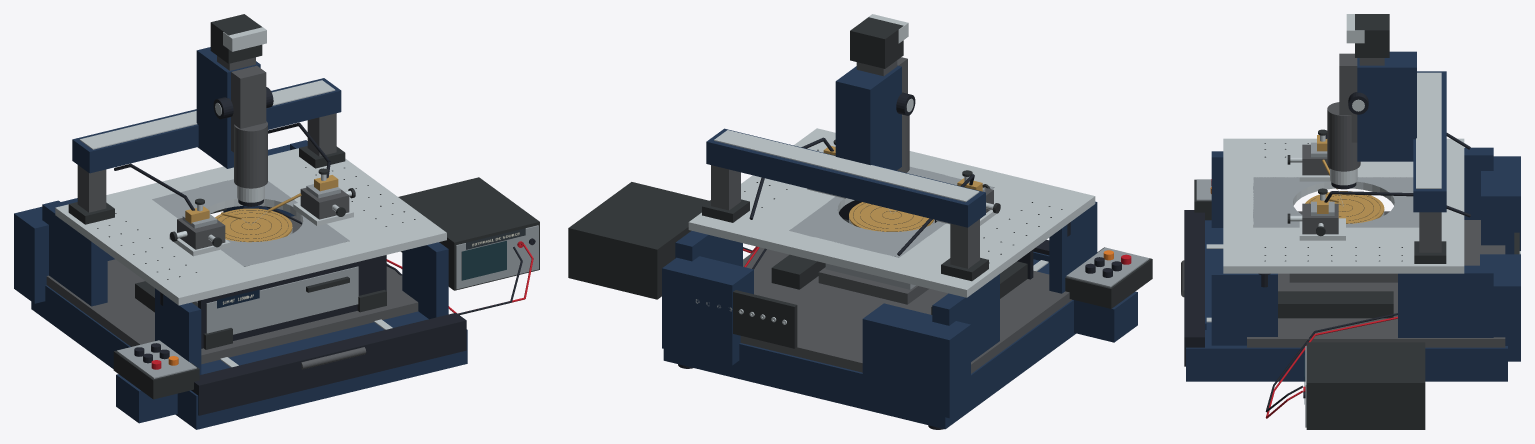
The model's file is summit-11000b.glb.
The picture shows the model from 3 angles, left to right: view 1: azimuth 30°, elevation 25°; view 2: azimuth 150°, elevation 25°; view 3: azimuth 270°, elevation 25°; orthographic projection. The views are drawn at different scales.
Visible parts, largest first — view 1: platform, platen, optics, bridge, smu, door, console, drawer, positioner_LO, positioner_HI, rotor, smu_lead; view 2: platform, platen, bridge, smu, optics, console, rear, drawer, stage_xy, rotor, positioner_HI; view 3: platform, platen, optics, smu, bridge, drawer, positioner_LO, rotor, positioner_HI, smu_lead, stage_xy, console.
Part boxes in pixels (x1,y1,x2,y2): platform: (14, 122, 467, 429); platen: (55, 148, 446, 305); optics: (196, 14, 273, 206); bridge: (68, 78, 345, 224); smu: (398, 177, 539, 290); door: (198, 255, 386, 348); console: (113, 340, 199, 399); drawer: (135, 281, 392, 369); positioner_LO: (293, 168, 355, 225); positioner_HI: (169, 198, 230, 256); rotor: (215, 208, 292, 242); smu_lead: (266, 206, 533, 315); platform: (662, 137, 1137, 429); platen: (688, 128, 1095, 297); bridge: (702, 128, 988, 281); smu: (568, 182, 709, 299); optics: (835, 14, 915, 172); console: (1065, 247, 1152, 308); rear: (695, 290, 797, 348); drawer: (771, 219, 1049, 314); stage_xy: (818, 256, 928, 304); rotor: (849, 202, 934, 231); positioner_HI: (936, 170, 1000, 225); platform: (1184, 133, 1520, 381); platen: (1223, 138, 1464, 273); optics: (1327, 14, 1416, 189); smu: (1303, 342, 1425, 429); bridge: (1413, 71, 1446, 263); drawer: (1181, 231, 1393, 329); positioner_LO: (1287, 188, 1345, 240); rotor: (1305, 191, 1384, 223); positioner_HI: (1287, 129, 1330, 181); smu_lead: (1265, 313, 1397, 418); stage_xy: (1289, 273, 1397, 282); console: (1194, 179, 1211, 220).
Bounding box in the file's own units: 1.23 × 0.811 × 0.839.
Materials: 14 (2 with a texture image).
